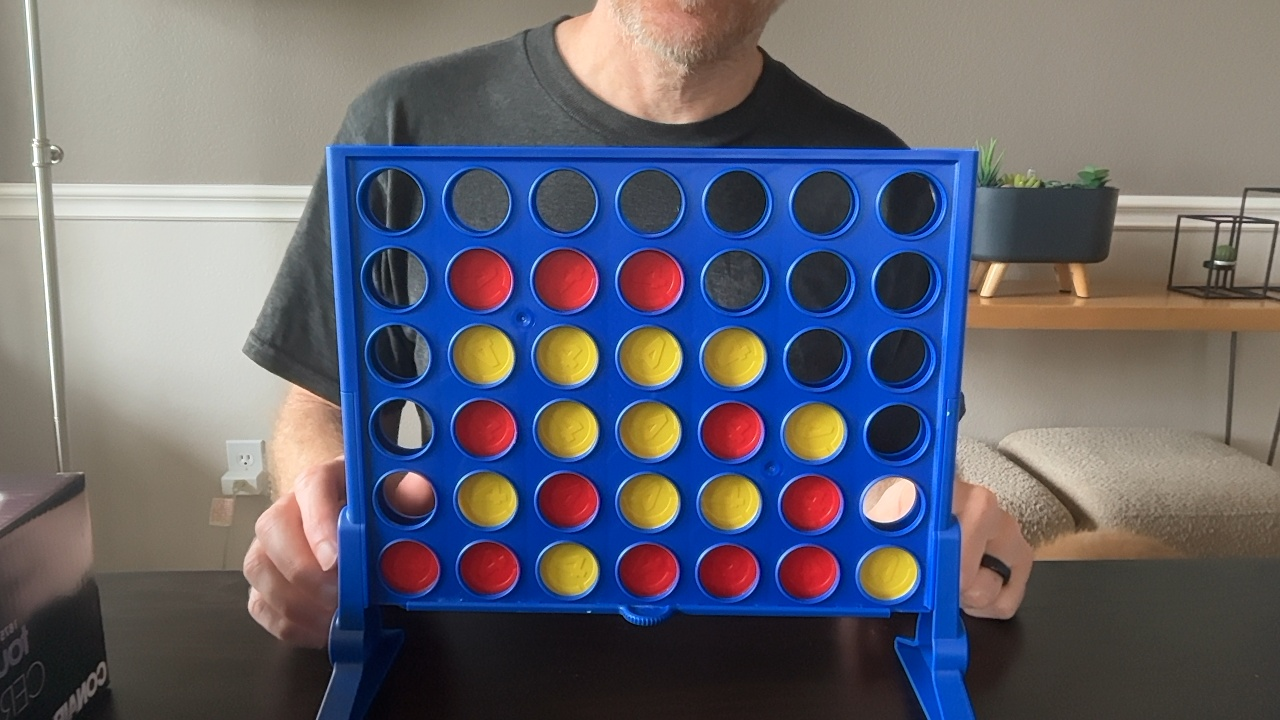red piece: (618, 249, 683, 312), (448, 248, 513, 311), (534, 248, 598, 311), (700, 402, 763, 461), (453, 399, 516, 458), (537, 472, 599, 529), (781, 475, 842, 531), (698, 544, 759, 599), (618, 543, 677, 599), (778, 545, 838, 600), (459, 541, 518, 596), (380, 541, 439, 594)
yellow piece: (618, 326, 682, 387), (535, 325, 598, 386), (452, 325, 514, 386), (703, 327, 765, 388), (783, 402, 846, 461), (537, 401, 598, 459), (619, 401, 680, 459), (700, 474, 761, 531), (457, 471, 517, 528), (619, 473, 679, 529), (539, 542, 598, 597), (859, 547, 919, 601)
